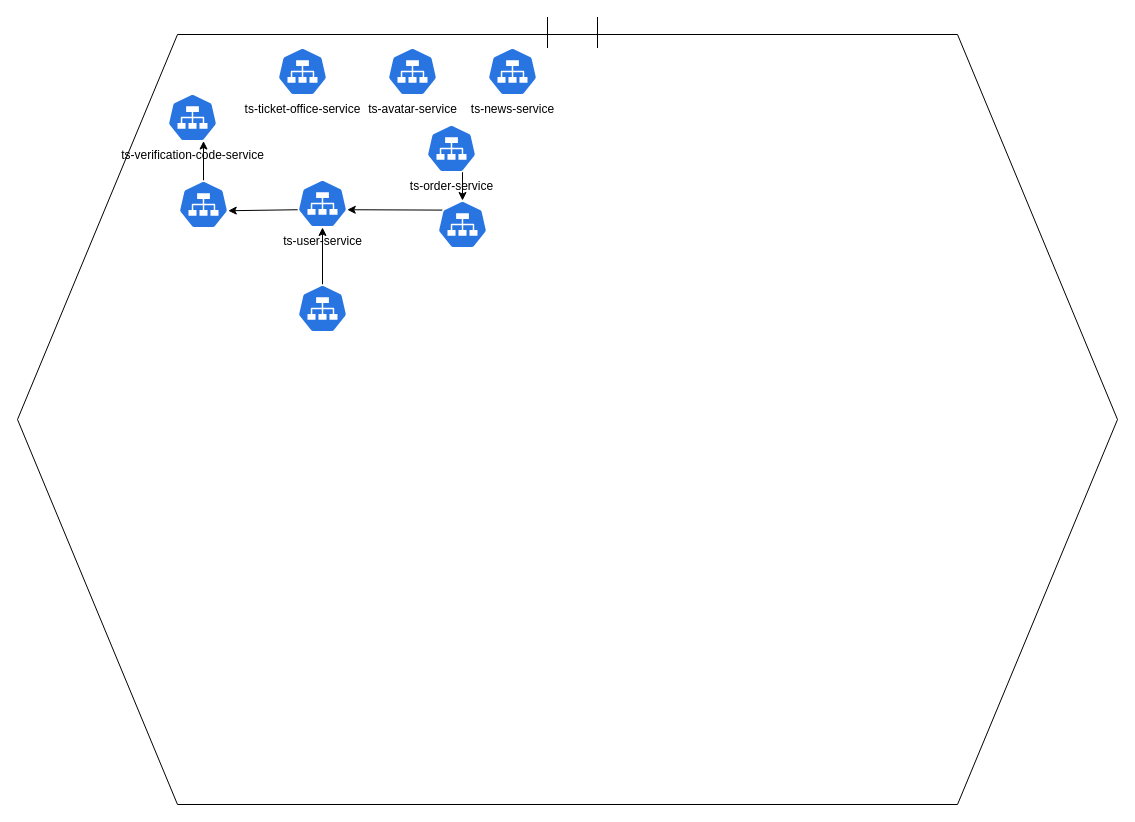
Image size: 1135x822. Some labels were removed from this diagram. The centre of each missing label's shape, as x and y in pixels:
ts-admin-user-service: point (322, 308)
ts-auth-service: point (203, 204)
ts-preserve-other-service: point (462, 224)
